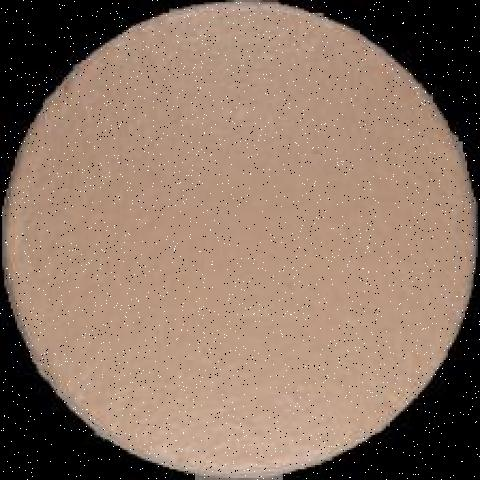Pill: (8, 7, 478, 480)
